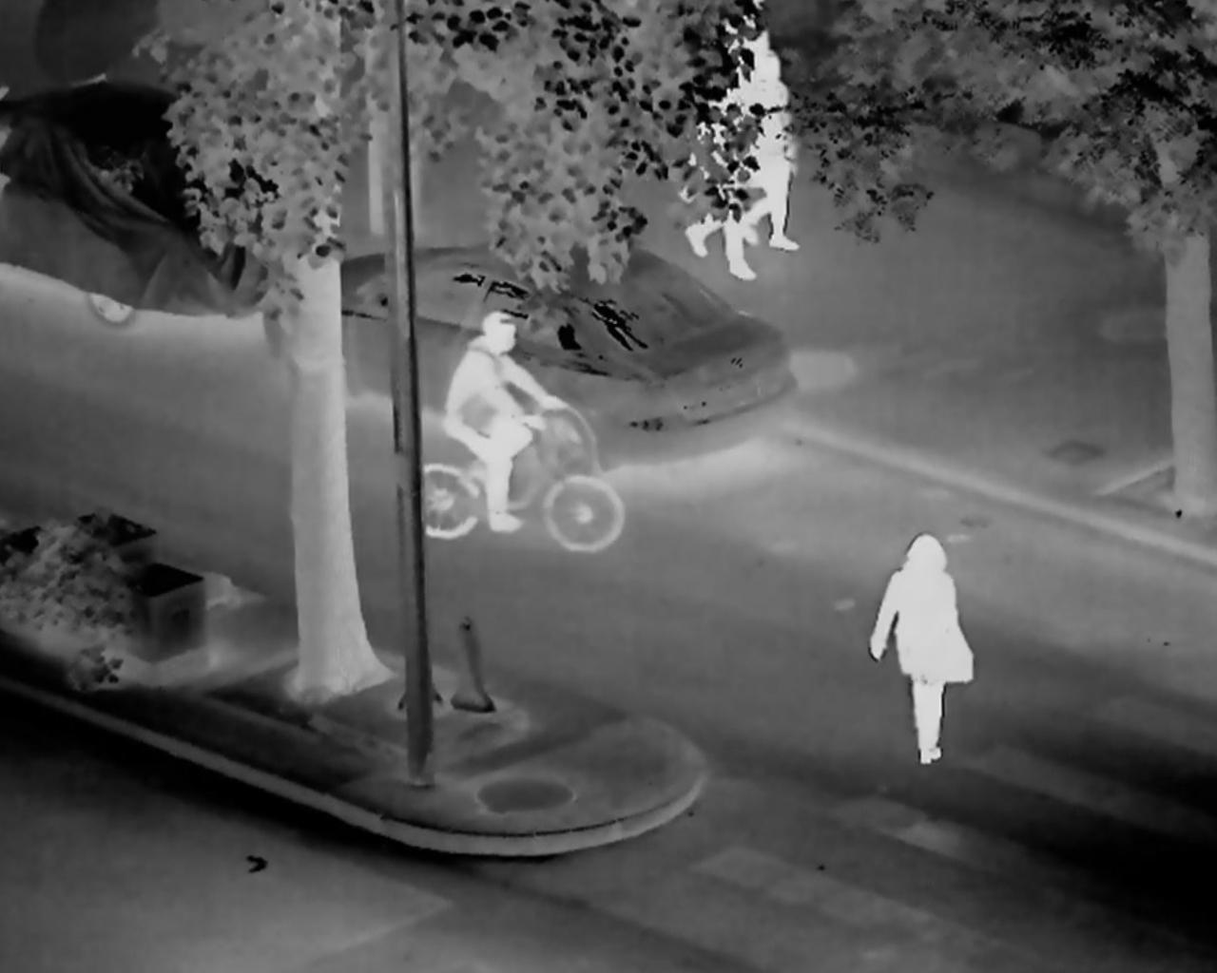person: (859, 517, 988, 773), (445, 306, 552, 554), (728, 14, 806, 269), (686, 70, 763, 296)
